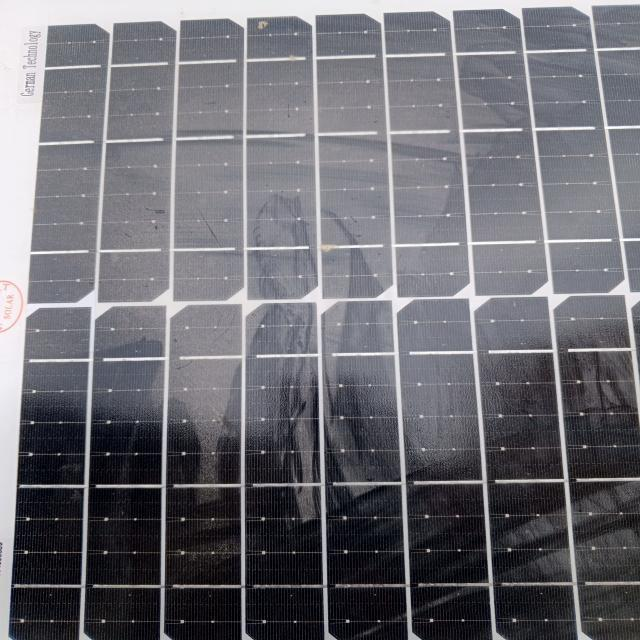Surface Contaminant: (35, 4, 632, 637)
